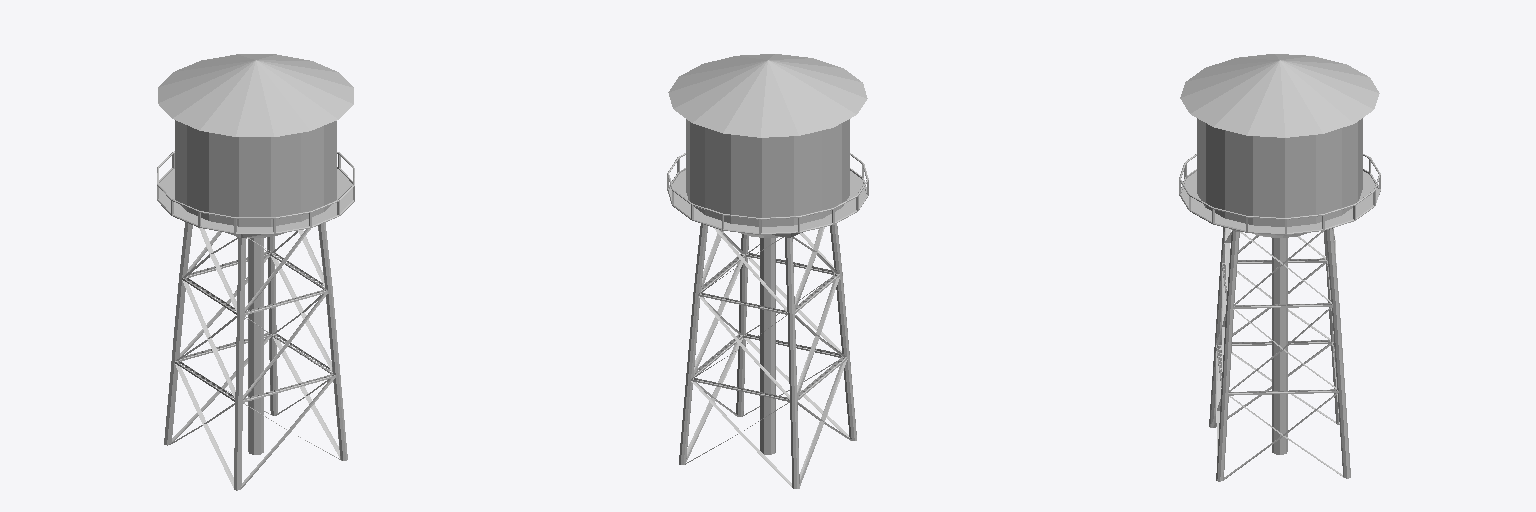
File: OBJ_WaterTower.obj
The picture shows the model from 3 angles: view 1: azimuth 30°, elevation 25°; view 2: azimuth 150°, elevation 25°; view 3: azimuth 270°, elevation 25°; orthographic projection.
Visible parts, largest first — view 1: WaterTower_Cylinder; view 2: WaterTower_Cylinder; view 3: WaterTower_Cylinder.
Part boxes in pixels (bbox=[...]): WaterTower_Cylinder: bbox=[157, 54, 354, 490]; WaterTower_Cylinder: bbox=[667, 54, 868, 488]; WaterTower_Cylinder: bbox=[1179, 54, 1380, 481].
Bounding box in the file's own units: 6.92 × 14.81 × 6.92.